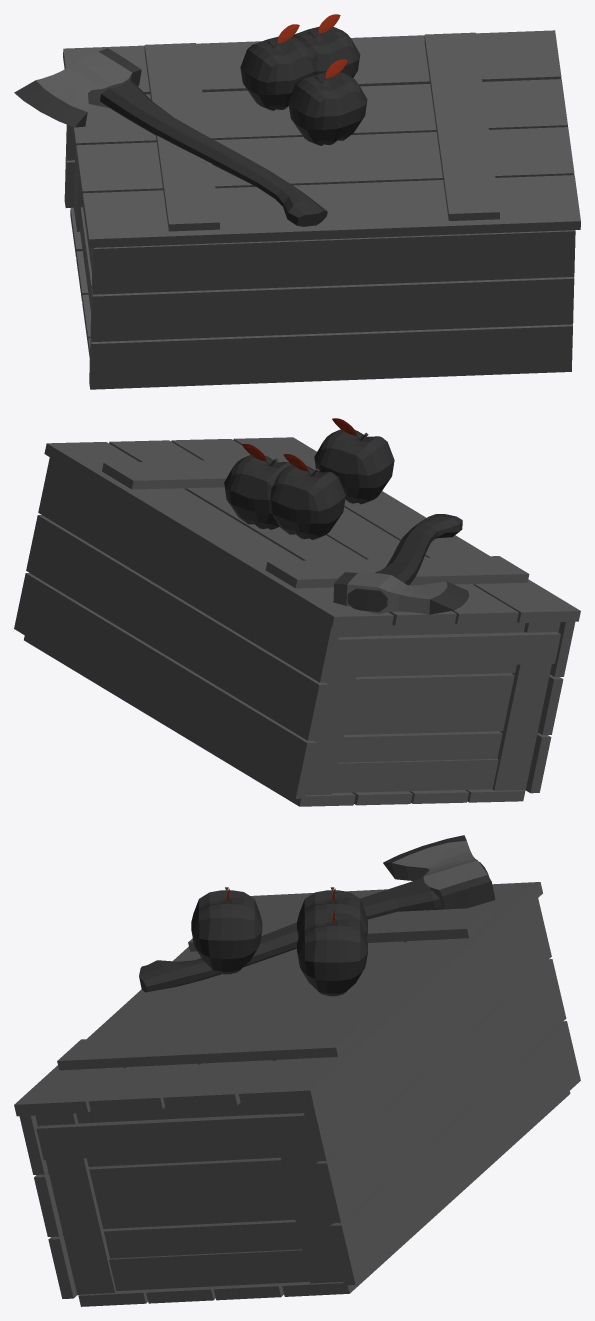
3 views of the same model, one above another, from view 1: azimuth 30°, elevation 25°; view 2: azimuth 150°, elevation 25°; view 3: azimuth 270°, elevation 25° (orthographic). The views are drawn at different scales.
Parts seen in each view (by area): view 1: Crate_Closed__1_, Axe, Apple__2_, Apple__1_, Apple; view 2: Crate_Closed__1_, Axe, Apple__1_, Apple__2_, Apple; view 3: Crate_Closed__1_, Axe, Apple__2_, Apple, Apple__1_.
Boxes of the visible parts, <box> form: Crate_Closed__1_: <box>63,30,580,389</box>; Axe: <box>14,48,327,226</box>; Apple__2_: <box>288,59,367,145</box>; Apple__1_: <box>240,24,314,110</box>; Apple: <box>293,14,360,77</box>; Crate_Closed__1_: <box>14,437,580,806</box>; Axe: <box>333,514,469,614</box>; Apple__1_: <box>270,454,345,539</box>; Apple__2_: <box>314,418,394,504</box>; Apple: <box>224,443,291,529</box>; Crate_Closed__1_: <box>14,882,580,1306</box>; Axe: <box>139,835,495,992</box>; Apple__2_: <box>191,887,262,974</box>; Apple: <box>297,909,367,996</box>; Apple__1_: <box>297,887,367,937</box>.
Bounding box in the file's own units: 1.48 × 0.8369 × 1.3.
Materials: 2 (2 with a texture image).
